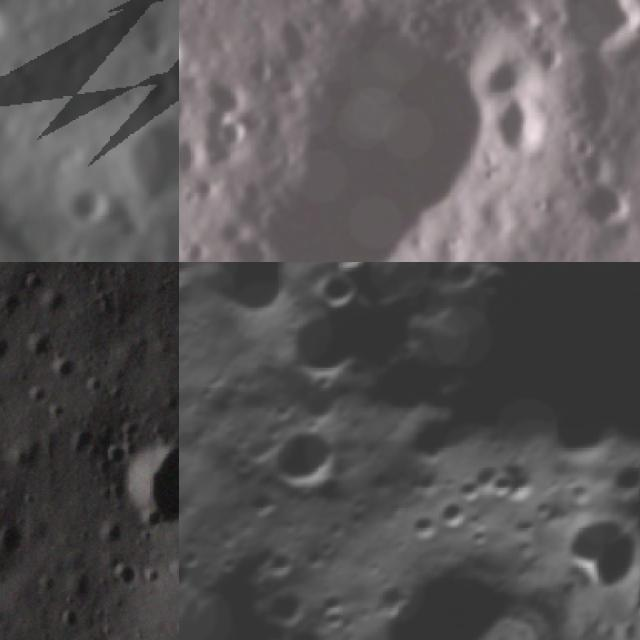crater: (272, 262, 640, 590), (188, 0, 550, 262), (368, 534, 544, 640), (258, 408, 360, 512), (107, 96, 179, 223), (546, 0, 640, 71), (554, 499, 632, 577), (475, 447, 548, 520), (492, 90, 561, 164), (474, 35, 542, 102), (123, 443, 179, 520), (256, 579, 320, 640), (575, 176, 640, 233), (63, 175, 122, 237), (316, 265, 375, 324), (256, 531, 315, 589), (239, 481, 293, 535), (427, 488, 481, 542), (436, 262, 492, 303), (179, 125, 216, 179), (402, 505, 446, 548), (609, 448, 640, 500), (277, 615, 340, 640), (179, 226, 222, 262), (399, 3, 440, 39), (214, 112, 248, 152), (115, 86, 149, 120), (22, 330, 56, 364), (49, 358, 81, 389), (324, 262, 386, 278), (309, 0, 362, 17), (66, 62, 92, 90), (45, 0, 79, 19), (5, 83, 28, 108), (630, 127, 640, 175)
